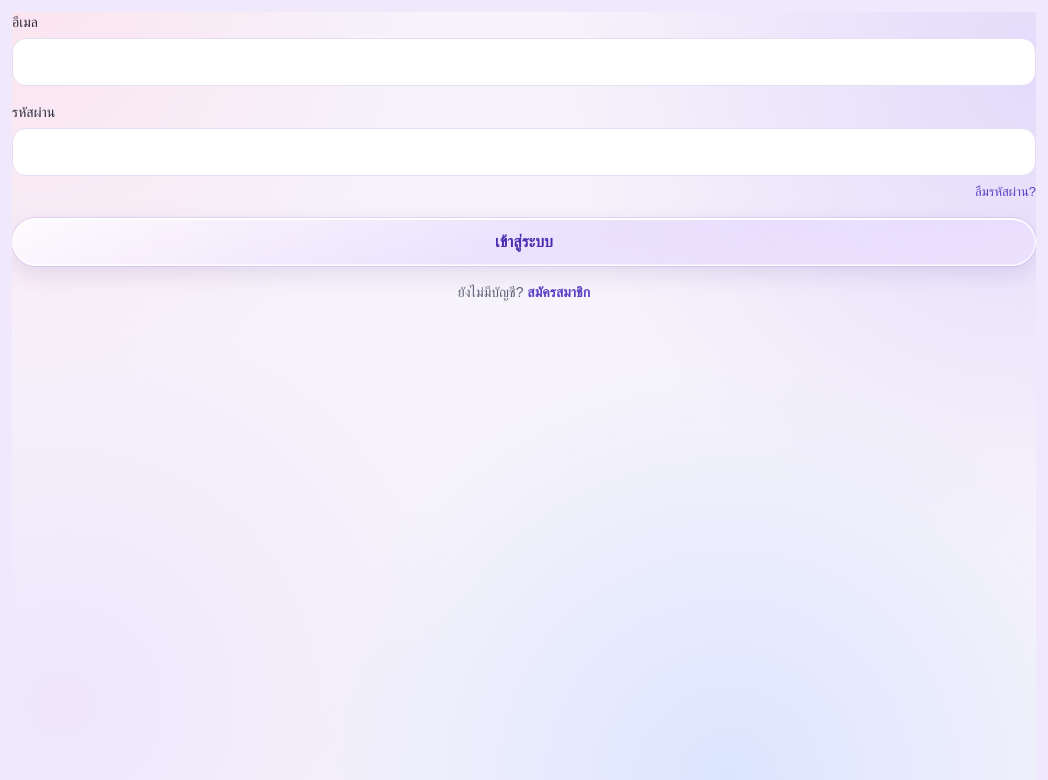
Test case: LoginForm › แสดง error รวม และ error ข้างช่องที่ผิด
The width and height of the screenshot is (1048, 780).
Click the button "เข้าสู่ระบบ" at x=524, y=242, box [12,218,1036,266]
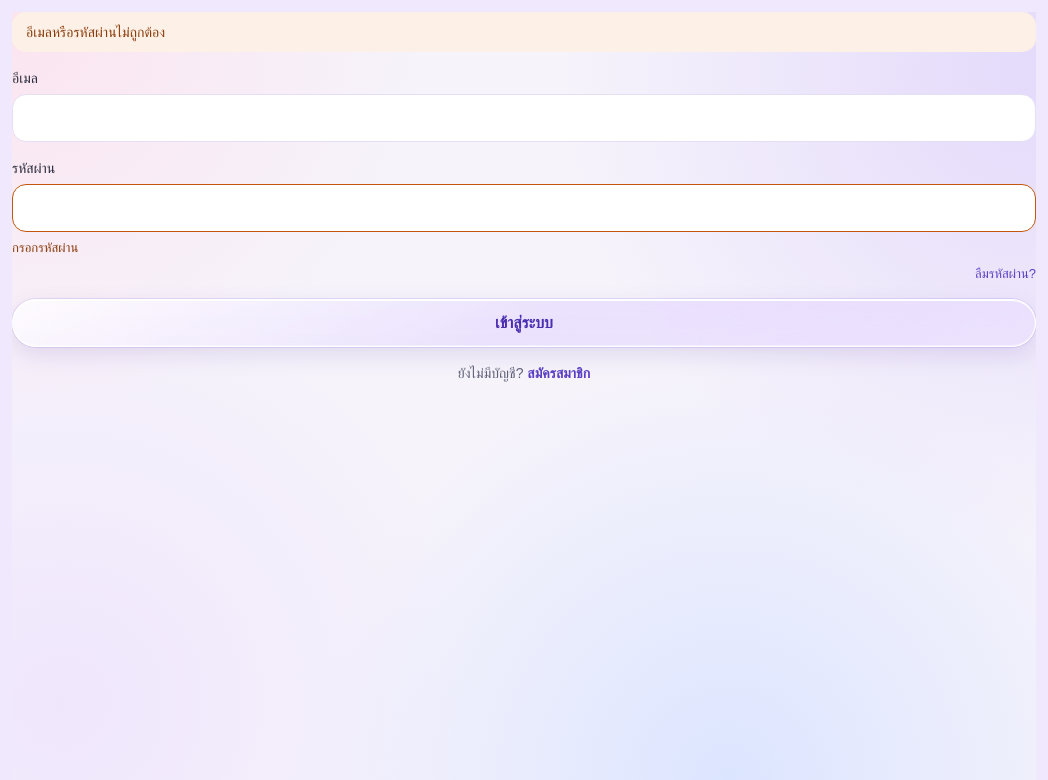
Expected: the message reads "อีเมลหรือรหัสผ่านไม่ถูกต้อง", [26,24,165,40]
